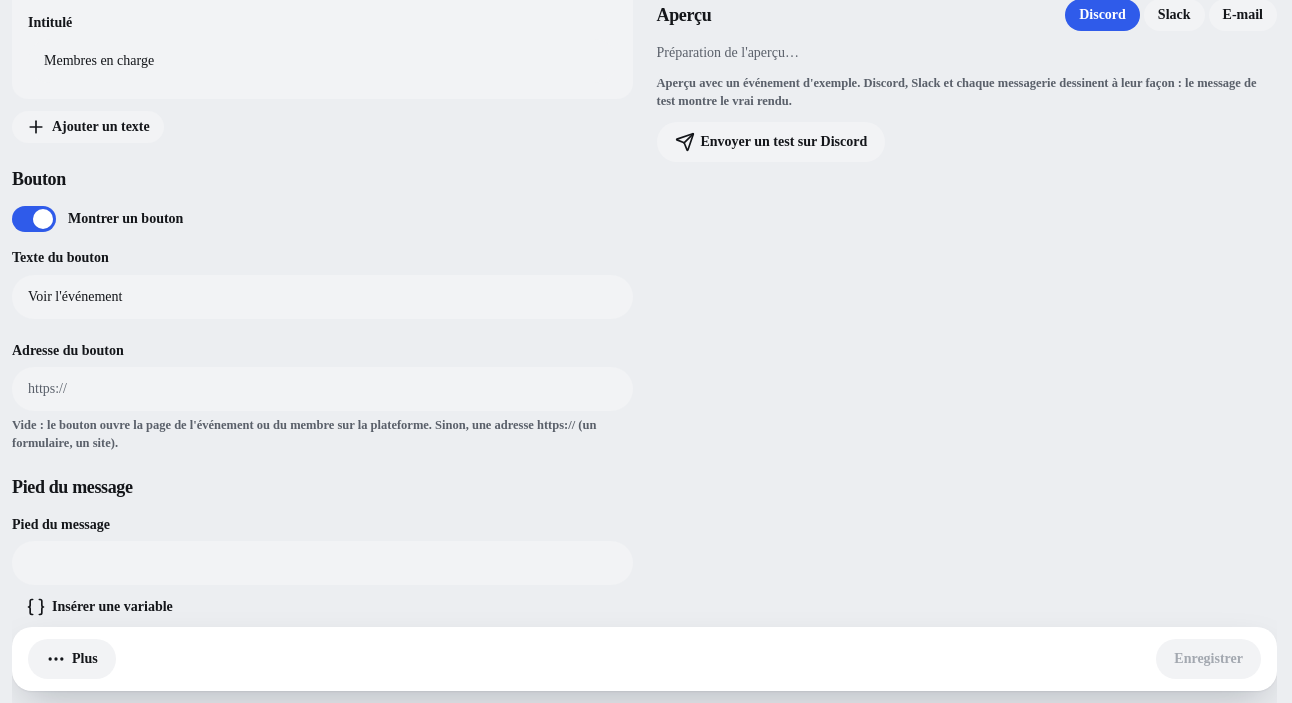
it: the editor of a notification › shows the problems the server found in a field, under it
(page scrolled)
Type "http://x" into the field labelled "Adresse du bouton". click: (322, 389)
box: [12, 367, 632, 411]
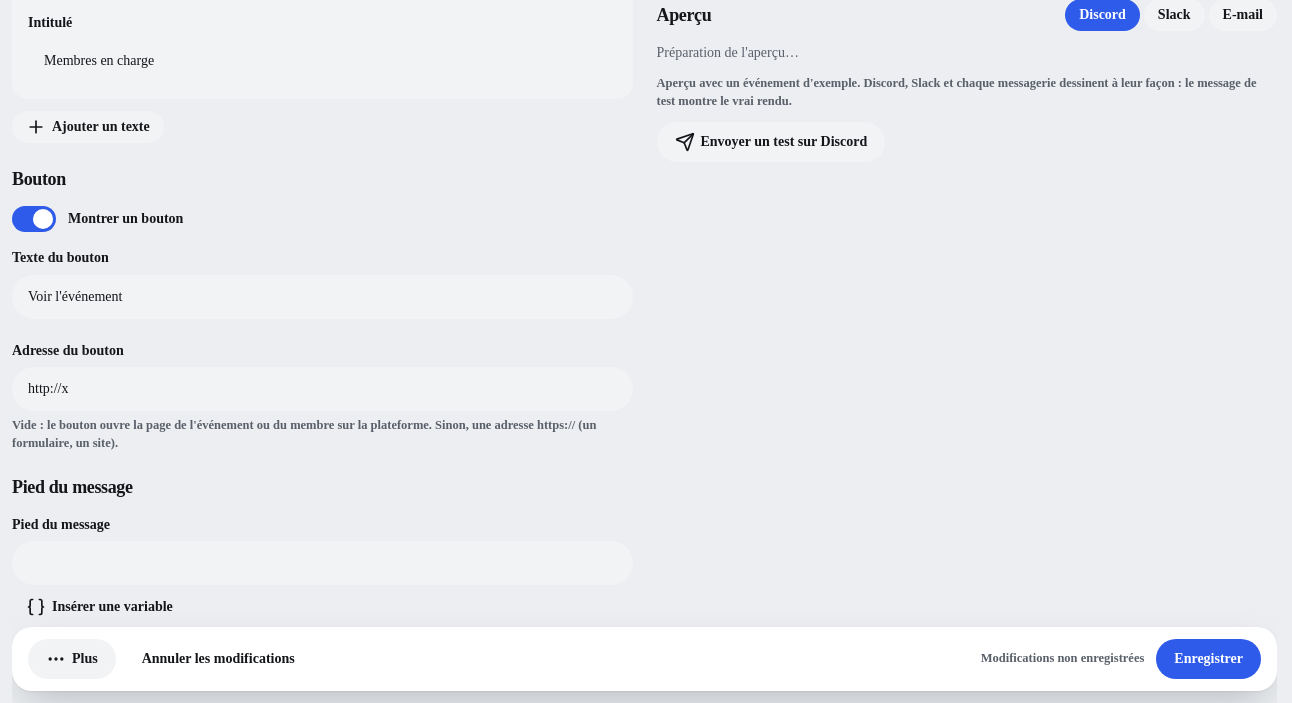
Click the button "Enregistrer". click: (1209, 659)
box: [1156, 639, 1261, 679]
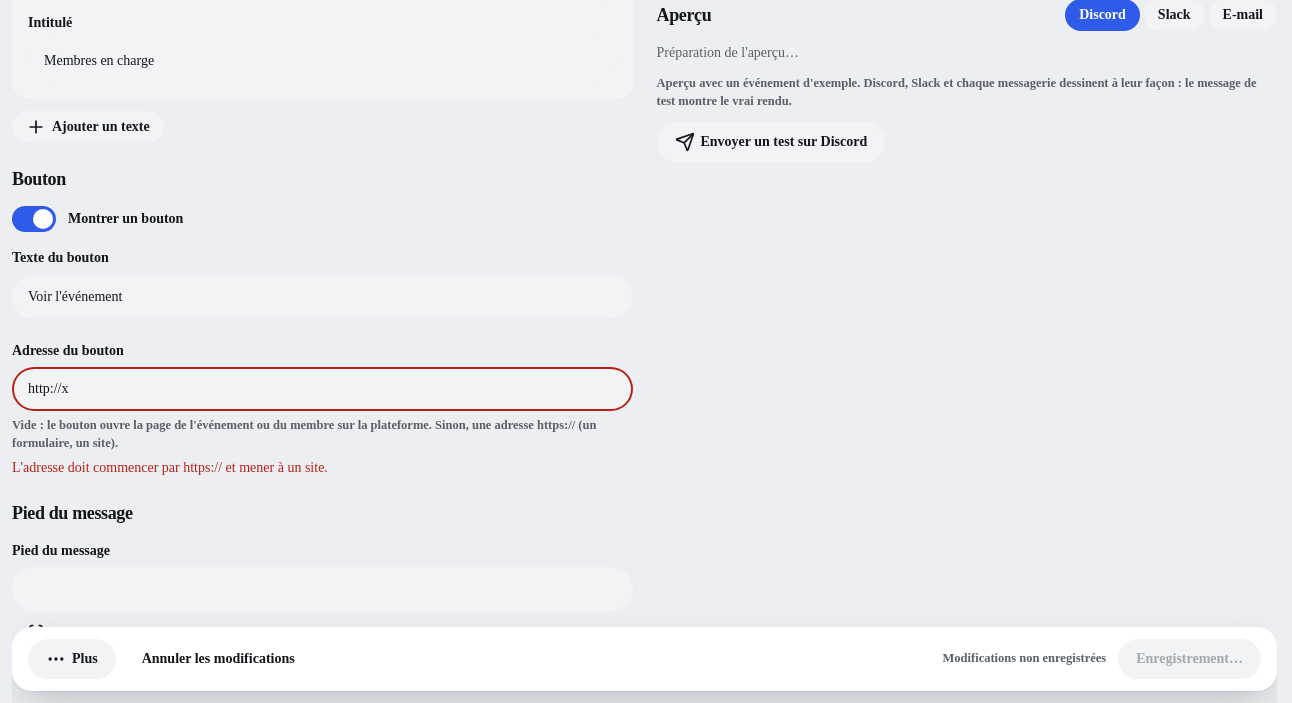
Expected: the text "L'adresse doit commencer par https:// et mener à un site." is shown, [12, 460, 328, 475]
